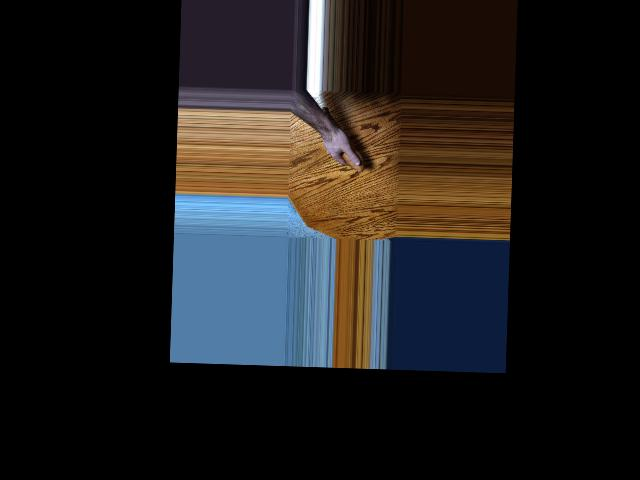sweet_potato: (320, 107, 366, 173)
